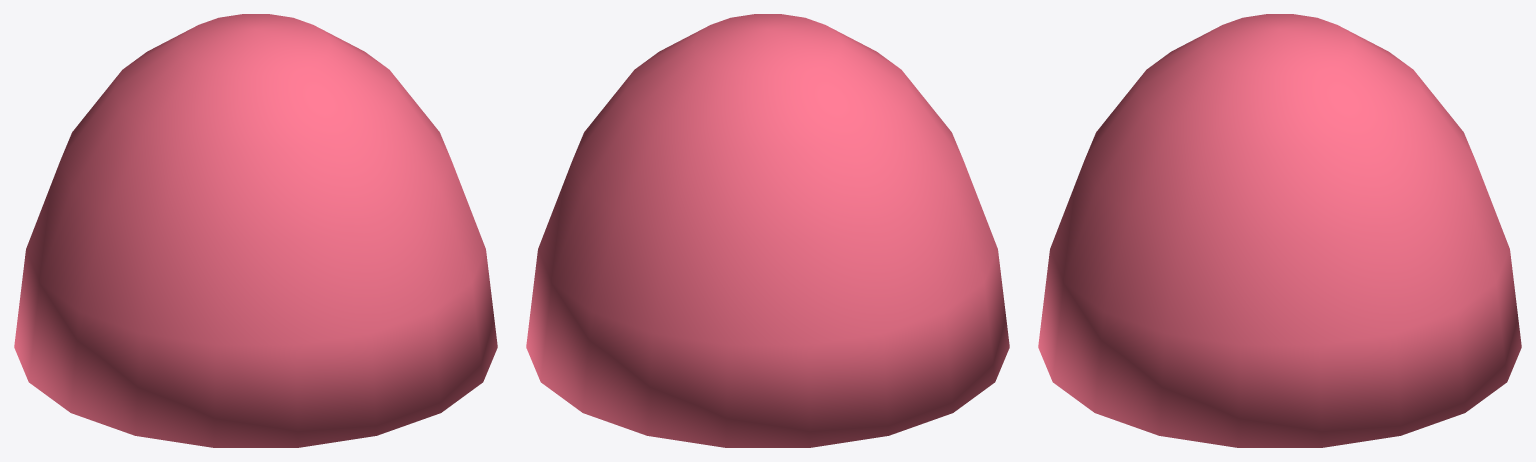
The model's file is candy_gumdrop_red.glb.
The picture shows the model from 3 angles, left to right: view 1: azimuth 30°, elevation 25°; view 2: azimuth 150°, elevation 25°; view 3: azimuth 270°, elevation 25°; orthographic projection.
Visible parts, largest first — view 1: candy_gumdrop_red; view 2: candy_gumdrop_red; view 3: candy_gumdrop_red.
Boxes of the visible parts, x1=… form: candy_gumdrop_red: x1=14, y1=14, x2=497, y2=447; candy_gumdrop_red: x1=526, y1=14, x2=1009, y2=447; candy_gumdrop_red: x1=1038, y1=14, x2=1521, y2=447.
Size of the model in its own units: 3.55 by 2.61 by 3.6.
